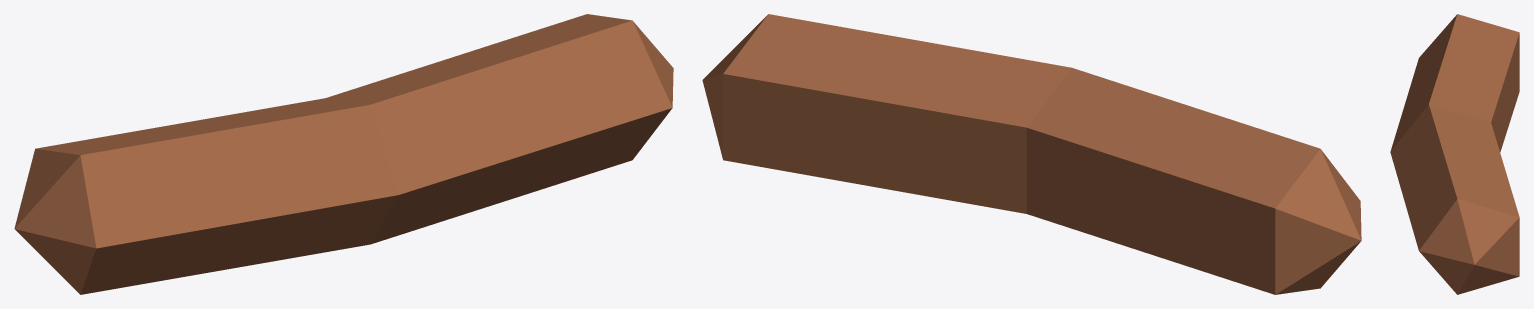
The model's file is SM_Item_Sausage_Cooked_01.fbx.
3 views of the same model, side by side, from view 1: azimuth 30°, elevation 25°; view 2: azimuth 150°, elevation 25°; view 3: azimuth 270°, elevation 25° (orthographic). The views are drawn at different scales.
Visible parts, largest first — view 1: SM_Item_Sausage_Cooked_01; view 2: SM_Item_Sausage_Cooked_01; view 3: SM_Item_Sausage_Cooked_01.
Boxes of the visible parts, left/top/right/bottom form: SM_Item_Sausage_Cooked_01: left=14, top=14, right=673, bottom=294; SM_Item_Sausage_Cooked_01: left=702, top=14, right=1361, bottom=294; SM_Item_Sausage_Cooked_01: left=1390, top=14, right=1519, bottom=294.
Bounding box in the file's own units: 28.64 × 5.8 × 7.09.
